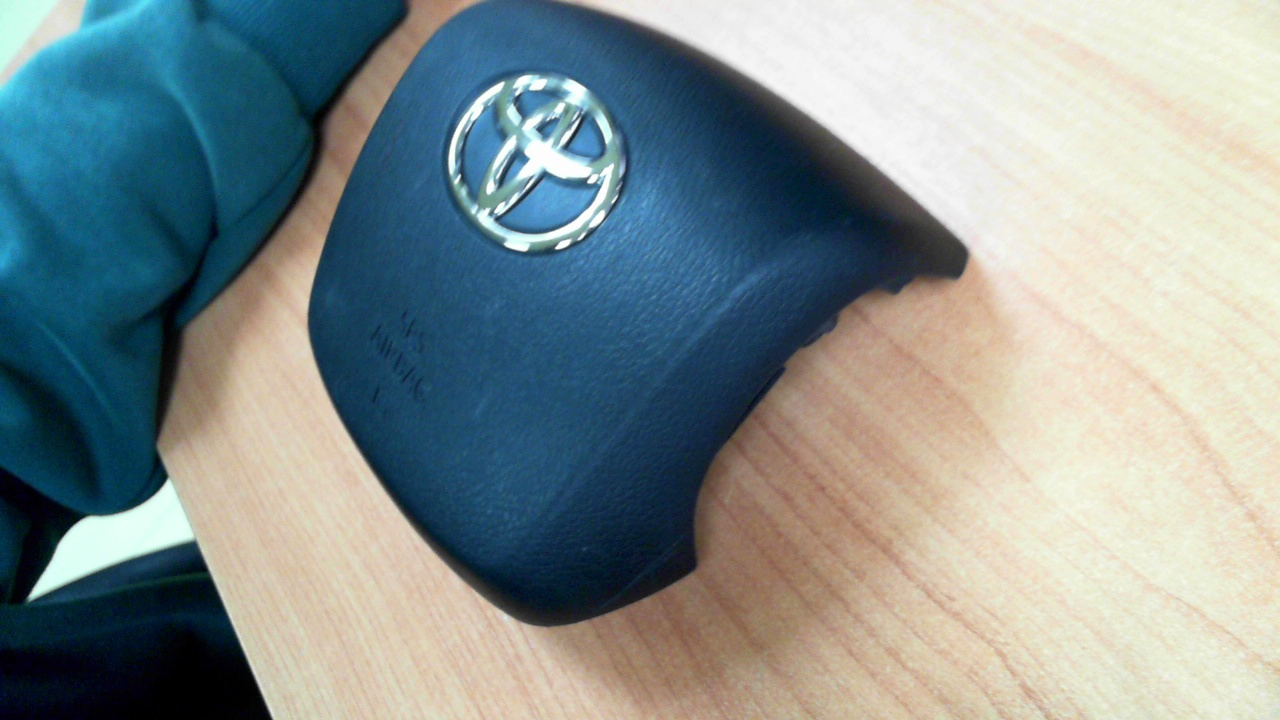Airbag: (305, 0, 967, 630)
Toyota: (448, 74, 627, 252)
